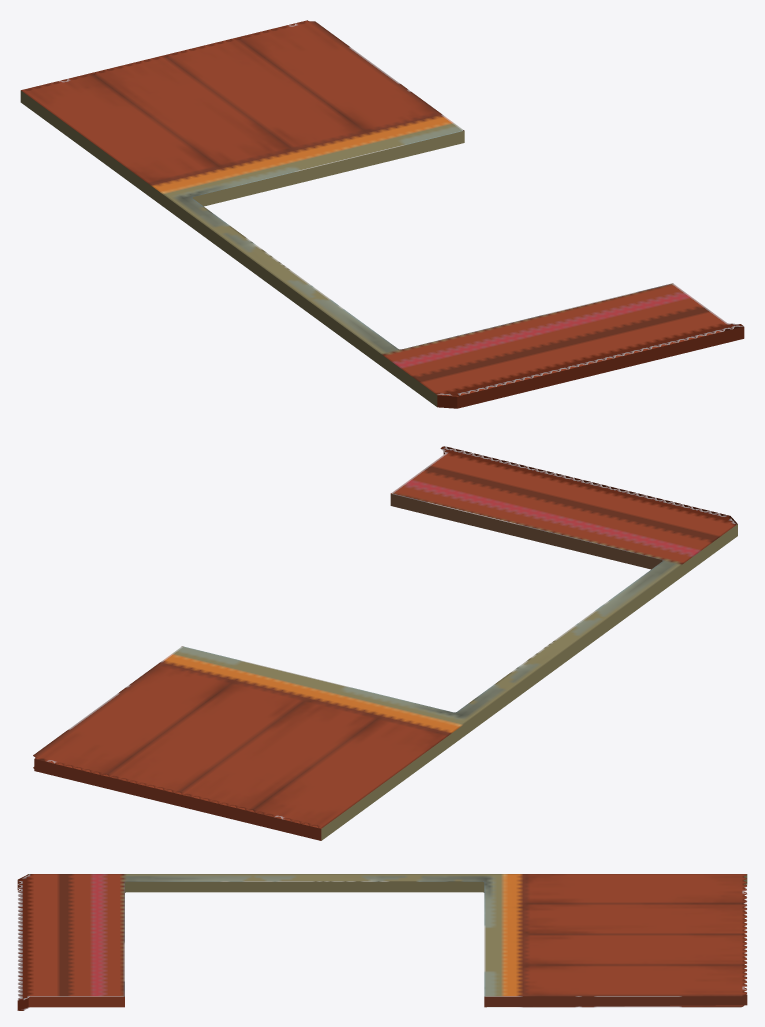
Rendered from pz_native_location_restaurant_spiffos_01_27_frame.obj.
3 views of the same model, one above another, from view 1: azimuth 30°, elevation 25°; view 2: azimuth 150°, elevation 25°; view 3: azimuth 270°, elevation 25° (orthographic). The views are drawn at different scales.
Visible parts, largest first — view 1: pz_native_location_restaurant_spiffos_01_27_frame; view 2: pz_native_location_restaurant_spiffos_01_27_frame; view 3: pz_native_location_restaurant_spiffos_01_27_frame.
Part boxes in pixels (left/top/right/bottom): pz_native_location_restaurant_spiffos_01_27_frame: left=20, top=20, right=744, bottom=408; pz_native_location_restaurant_spiffos_01_27_frame: left=33, top=446, right=737, bottom=840; pz_native_location_restaurant_spiffos_01_27_frame: left=17, top=874, right=747, bottom=1010.
Size of the model in its own units: 1.06 by 0.04 by 2.54.
Materials: 1 (1 with a texture image).
